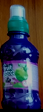blueberries: (2, 5, 43, 108)
